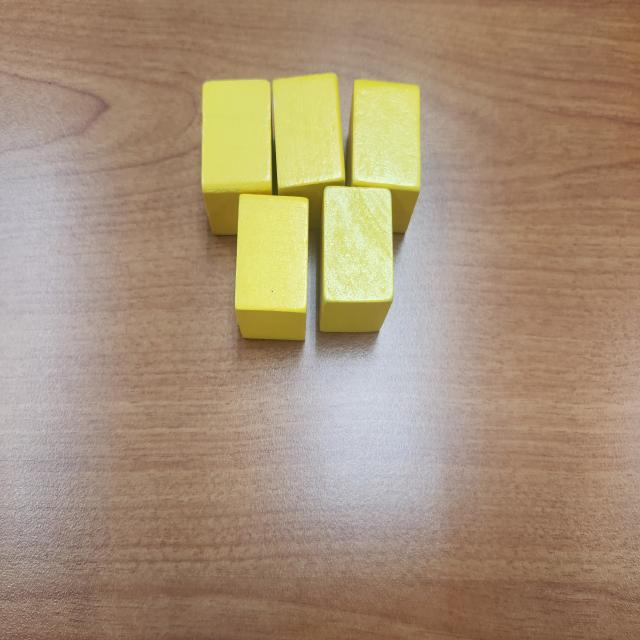yellow: (270, 71, 346, 232), (346, 79, 421, 235), (200, 79, 273, 237), (318, 184, 394, 334), (235, 194, 309, 342)
